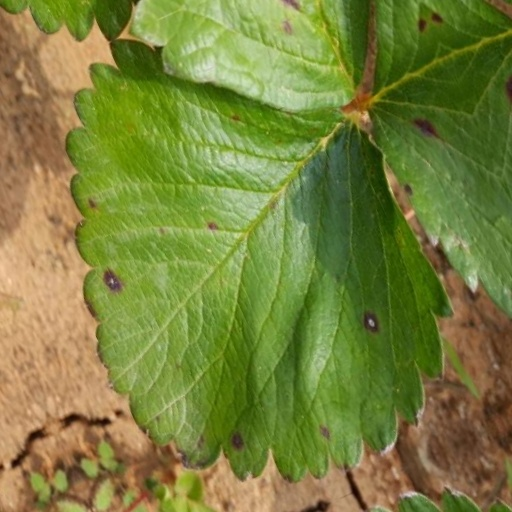Leaf Spot: (94, 0, 447, 491), (10, 0, 279, 158)
